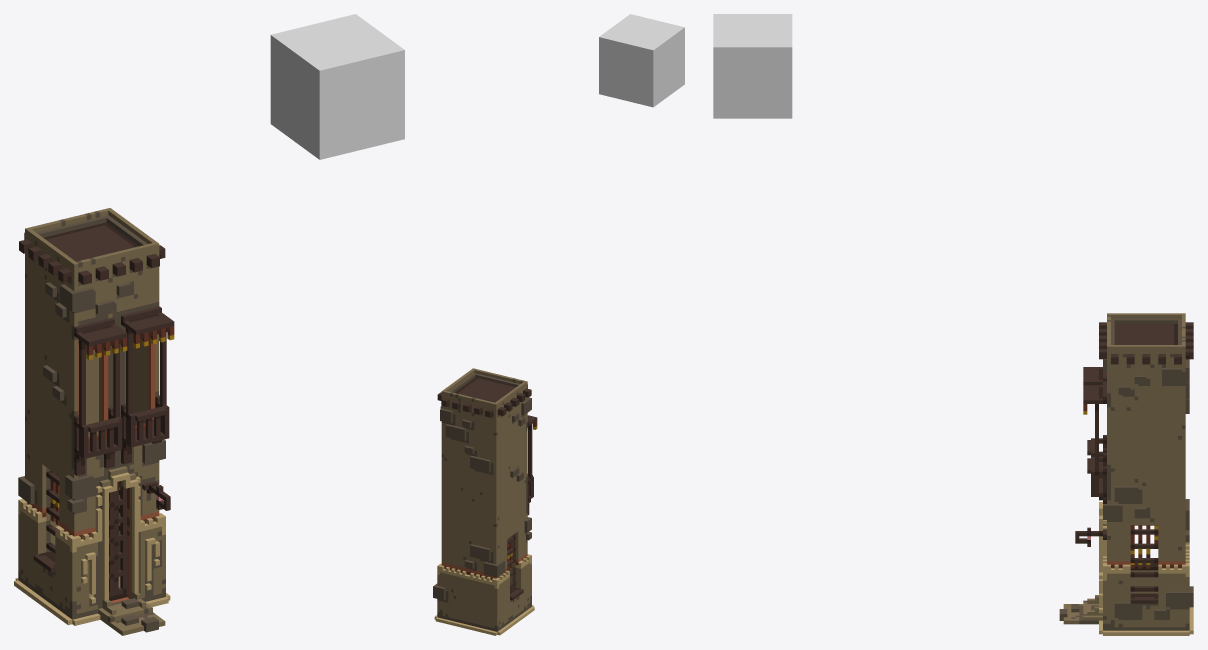
The model's file is level1.glb.
The picture shows the model from 3 angles, left to right: view 1: azimuth 30°, elevation 25°; view 2: azimuth 150°, elevation 25°; view 3: azimuth 270°, elevation 25°; orthographic projection. The views are drawn at different scales.
Visible parts, largest first — view 1: TallBuilding, Player; view 2: TallBuilding, Player; view 3: TallBuilding, Player.
Part boxes in pixels (<box>): TallBuilding: <box>14,208,174,635</box>; Player: <box>270,14,404,159</box>; TallBuilding: <box>433,368,537,635</box>; Player: <box>599,14,684,107</box>; TallBuilding: <box>1059,313,1193,635</box>; Player: <box>713,14,792,118</box>.
Bounding box in the file's own units: 2.4 × 16.38 × 12.18.
Materials: 2 (1 with a texture image).
